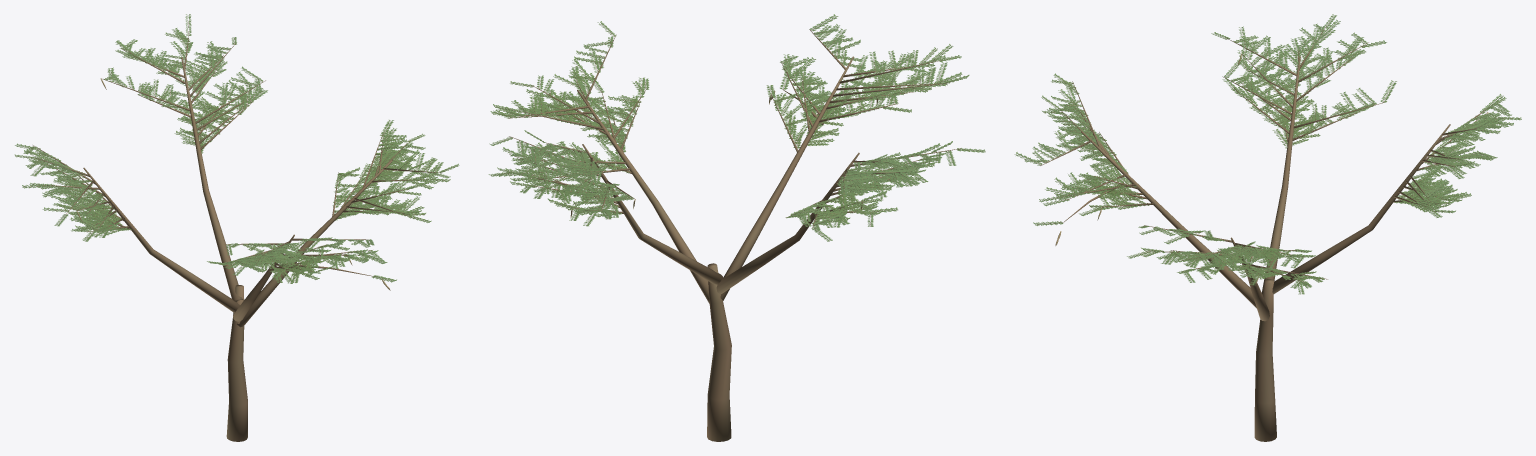
Rendered from velvet_mesquite_hybrid.glb.
The picture shows the model from 3 angles, left to right: view 1: azimuth 30°, elevation 25°; view 2: azimuth 150°, elevation 25°; view 3: azimuth 270°, elevation 25°; orthographic projection. The views are drawn at different scales.
Visible parts, largest first — view 1: MesquitePairedLeaflets, MesquiteForkedWood; view 2: MesquitePairedLeaflets, MesquiteForkedWood; view 3: MesquitePairedLeaflets, MesquiteForkedWood.
Boxes of the visible parts, box(x1,y1,x2,y2) form: MesquitePairedLeaflets: box(14, 14, 459, 283); MesquiteForkedWood: box(15, 22, 454, 441); MesquitePairedLeaflets: box(488, 14, 985, 241); MesquiteForkedWood: box(491, 17, 982, 441); MesquitePairedLeaflets: box(1014, 14, 1521, 294); MesquiteForkedWood: box(1021, 19, 1519, 441).
Bounding box in the file's own units: 6.34 × 5.1 × 6.7.
